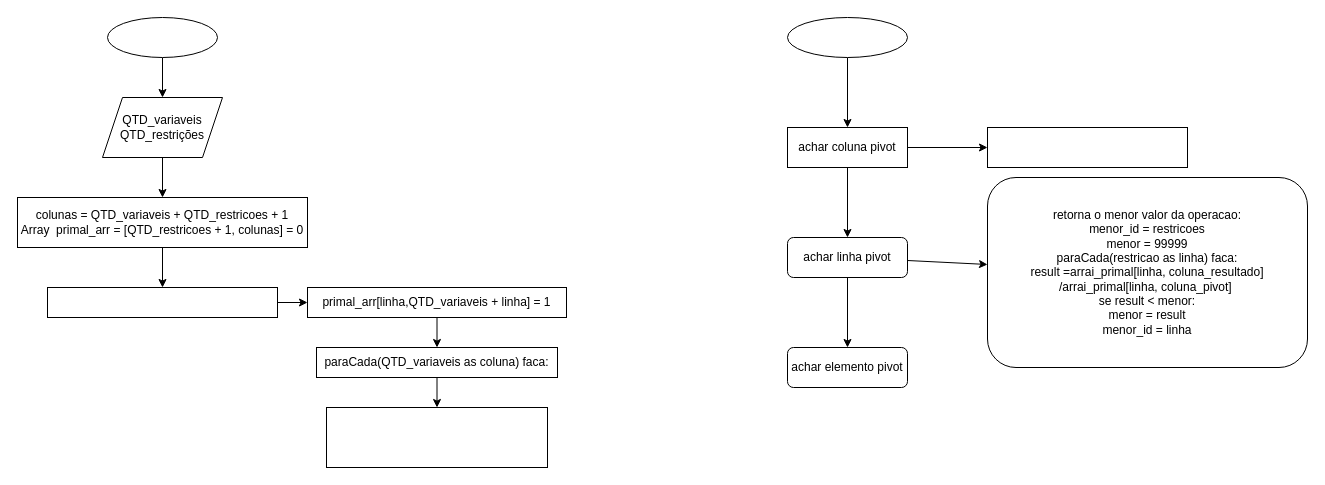
Image size: 1325x485. Some labels were removed from this diagram. Here are the shapes that lost their labels. From the top down, the centre of each, then its label:
the point at 162,37: inicio
the point at 1087,147: array_primal[linha_objetivo].min()
the point at 162,302: paraCada(QTD_restricoes as linha) faca:
the point at 437,437: ler(valor_restricao) primal_arr[linha,coluna] valor_restricao
